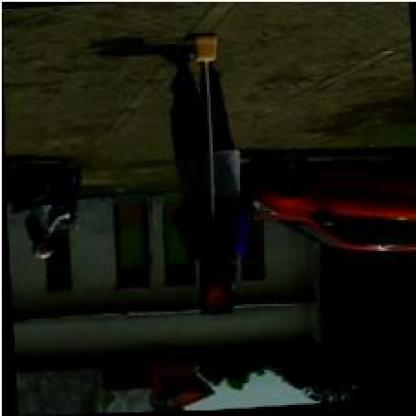red: (194, 223, 235, 316)
